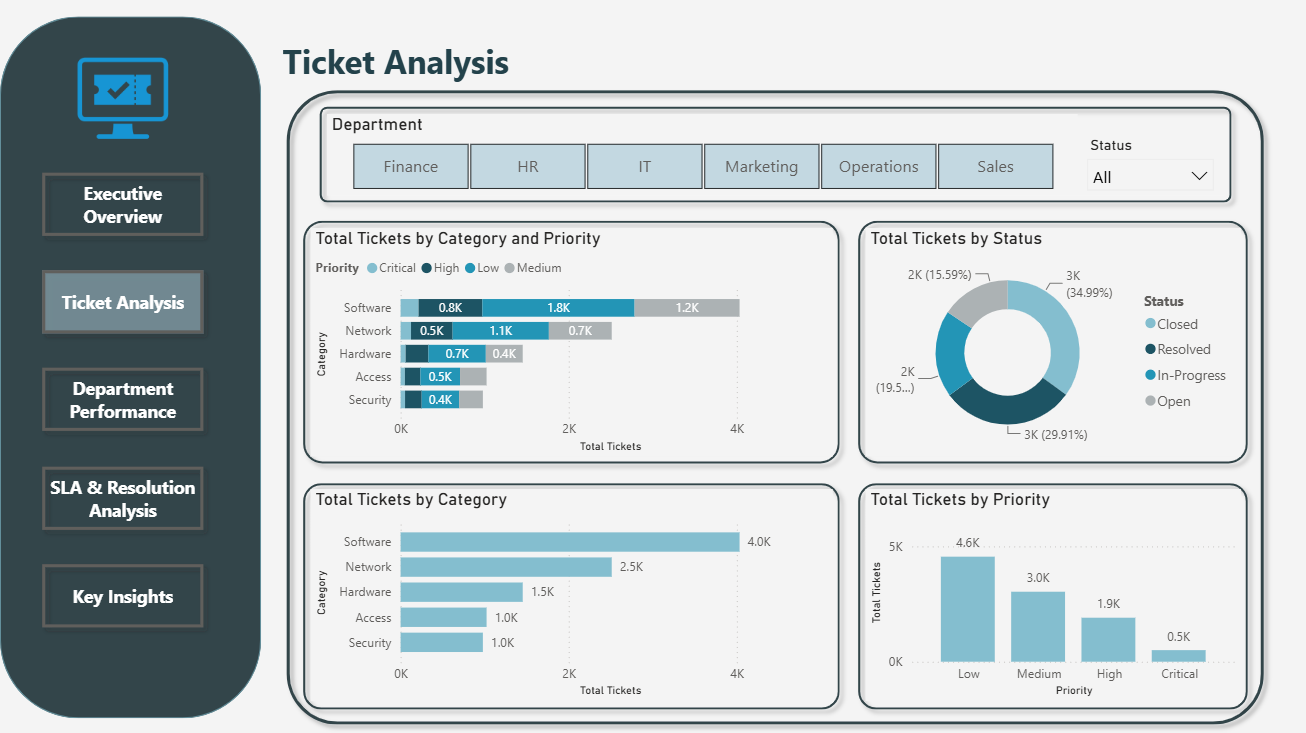

What the dashboard file says about the page in this screenshot:
{"tool":"powerbi","page":{"name":"Ticket Analysis","canvas":[1280,720],"ordinal":1},"visuals":[{"type":"textbox","box":[272,32,272,64],"z":5000},{"type":"shape","box":[0,16,256,688],"z":6000},{"type":"actionButton","box":[32,160,176,80],"z":7000},{"type":"actionButton","box":[32,256,176,80],"z":8000},{"type":"actionButton","box":[32,352,176,80],"z":9000},{"type":"actionButton","box":[32,448,176,80],"z":10000},{"type":"actionButton","box":[32,544,176,80],"z":11000},{"type":"shape","box":[272,80,976,640],"z":12000},{"type":"image","box":[64,32,112,128],"z":13000},{"type":"shape","box":[288,464,544,240],"z":14000},{"type":"shape","box":[288,208,544,256],"z":15000},{"type":"shape","box":[832,208,400,256],"z":16000},{"type":"shape","box":[304,96,912,112],"z":17000},{"type":"shape","box":[832,464,400,240],"z":18000},{"type":"donutChart","fields":{"Category":["IT_Service_Desk_Dataset.Status"],"Y":["IT_Service_Desk_Dataset.Total Tickets"]},"box":[848,224,368,224],"z":19000},{"type":"clusteredBarChart","fields":{"Category":["IT_Service_Desk_Dataset.Category"],"Y":["IT_Service_Desk_Dataset.Total Tickets"]},"box":[304,480,512,208],"z":20500},{"type":"clusteredColumnChart","fields":{"Category":["IT_Service_Desk_Dataset.Priority"],"Y":["IT_Service_Desk_Dataset.Total Tickets"]},"box":[848,480,368,208],"z":21000},{"type":"slicer","title":"Department","fields":{"Values":["IT_Service_Desk_Dataset.Department"]},"box":[320,112,736,80],"z":21500},{"type":"barChart","fields":{"Category":["IT_Service_Desk_Dataset.Category"],"Series":["IT_Service_Desk_Dataset.Priority"],"Y":["IT_Service_Desk_Dataset.Total Tickets"]},"box":[304,224,512,224],"z":22000},{"type":"slicer","fields":{"Values":["IT_Service_Desk_Dataset.Status"]},"box":[1056,128,144,64],"z":22500}]}

Visuals, with their boxes in screenshot pixels (x1, y1, x2, y2), scaled from the page's 1280x720 canvas onto the 1306x733 screenshot:
textbox: 278,33,555,98
shape: 0,16,261,717
actionButton: 33,163,212,244
actionButton: 33,261,212,342
actionButton: 33,358,212,440
actionButton: 33,456,212,538
actionButton: 33,554,212,635
shape: 278,81,1273,732
image: 65,33,180,163
shape: 294,472,849,717
shape: 294,212,849,472
shape: 849,212,1257,472
shape: 310,98,1241,212
shape: 849,472,1257,717
donutChart - IT_Service_Desk_Dataset.Status x IT_Service_Desk_Dataset.Total Tickets: 865,228,1241,456
clusteredBarChart - IT_Service_Desk_Dataset.Category x IT_Service_Desk_Dataset.Total Tickets: 310,489,833,700
clusteredColumnChart - IT_Service_Desk_Dataset.Priority x IT_Service_Desk_Dataset.Total Tickets: 865,489,1241,700
"Department" slicer: 326,114,1077,195
barChart - IT_Service_Desk_Dataset.Category x IT_Service_Desk_Dataset.Priority: 310,228,833,456
slicer - IT_Service_Desk_Dataset.Status: 1077,130,1224,195
